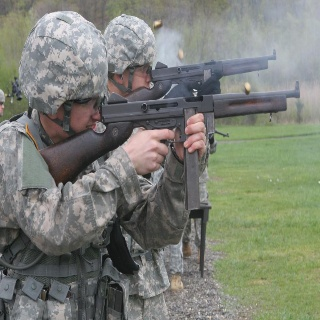rifle: (38, 80, 303, 212), (120, 48, 279, 97)
